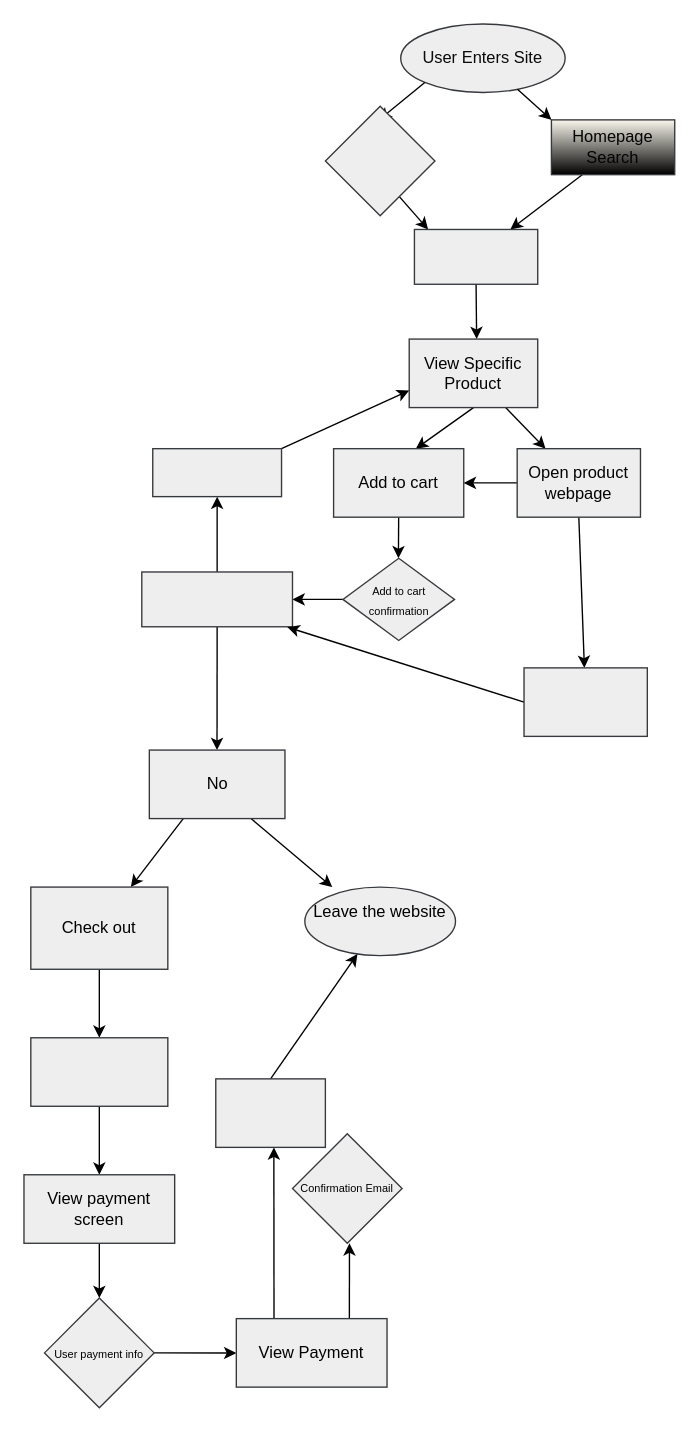
Some shapes in this 699 by 1432 pixel diagram are drawn without their labels. Here are the shapes that lost their labels. From the top down, the centre of each, then its label:
(x=379, y=160): Product Search
(x=475, y=256): User Looks over Products
(x=216, y=472): Yes
(x=216, y=599): Continue Shopping?
(x=585, y=701): Don't add to cart
(x=98, y=1071): View Cart Screen
(x=269, y=1112): Order confirmation screen
